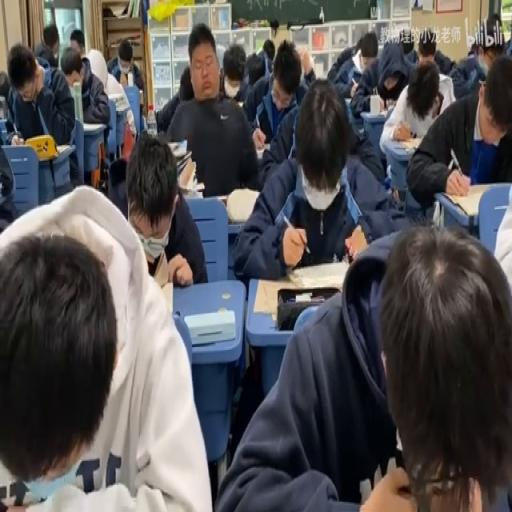calculator: (288, 258, 350, 288), (251, 276, 296, 317), (184, 307, 234, 343), (226, 186, 259, 225), (346, 100, 364, 135), (158, 279, 174, 314), (390, 136, 420, 150), (166, 139, 188, 158), (108, 90, 126, 110), (180, 181, 203, 196), (82, 118, 104, 132), (205, 193, 228, 205), (346, 64, 358, 87), (362, 110, 386, 120), (254, 144, 268, 158), (55, 144, 71, 155), (344, 96, 351, 110), (234, 100, 245, 108), (0, 186, 6, 200)
paper: (0, 230, 198, 511), (345, 219, 512, 510), (230, 77, 404, 277), (409, 51, 512, 212), (164, 22, 258, 198), (114, 128, 206, 289), (8, 40, 78, 195), (349, 30, 420, 116), (67, 43, 111, 132), (492, 179, 512, 313), (154, 64, 190, 134), (106, 37, 144, 97), (0, 132, 21, 232), (408, 26, 450, 74), (447, 52, 486, 94), (238, 52, 266, 106), (296, 42, 318, 90), (332, 40, 358, 71), (358, 31, 378, 61), (34, 43, 56, 68), (69, 27, 85, 58), (0, 69, 10, 113), (378, 78, 396, 102), (214, 43, 228, 71), (489, 13, 502, 40), (262, 38, 276, 62), (400, 30, 414, 54), (467, 40, 480, 58)
